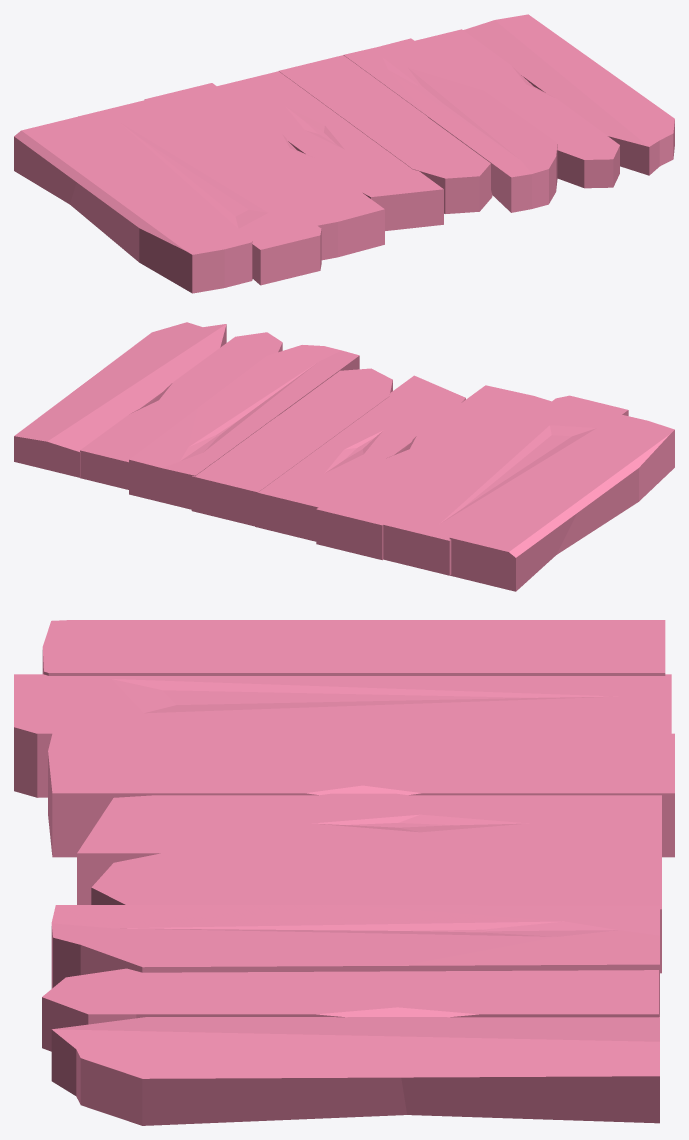
The model's file is Side Platform.fbx.
3 renders of one model, top to bottom at view 1: azimuth 30°, elevation 25°; view 2: azimuth 150°, elevation 25°; view 3: azimuth 270°, elevation 25°, orthographic. The views are drawn at different scales.
Visible parts, largest first — view 1: Side platform; view 2: Side platform; view 3: Side platform.
Boxes of the visible parts, x1,y1,x2,y2 form: Side platform: (14,14,674,293); Side platform: (14,322,674,591); Side platform: (14,620,674,1125).
Bounding box in the file's own units: 1023 × 76.46 × 629.
